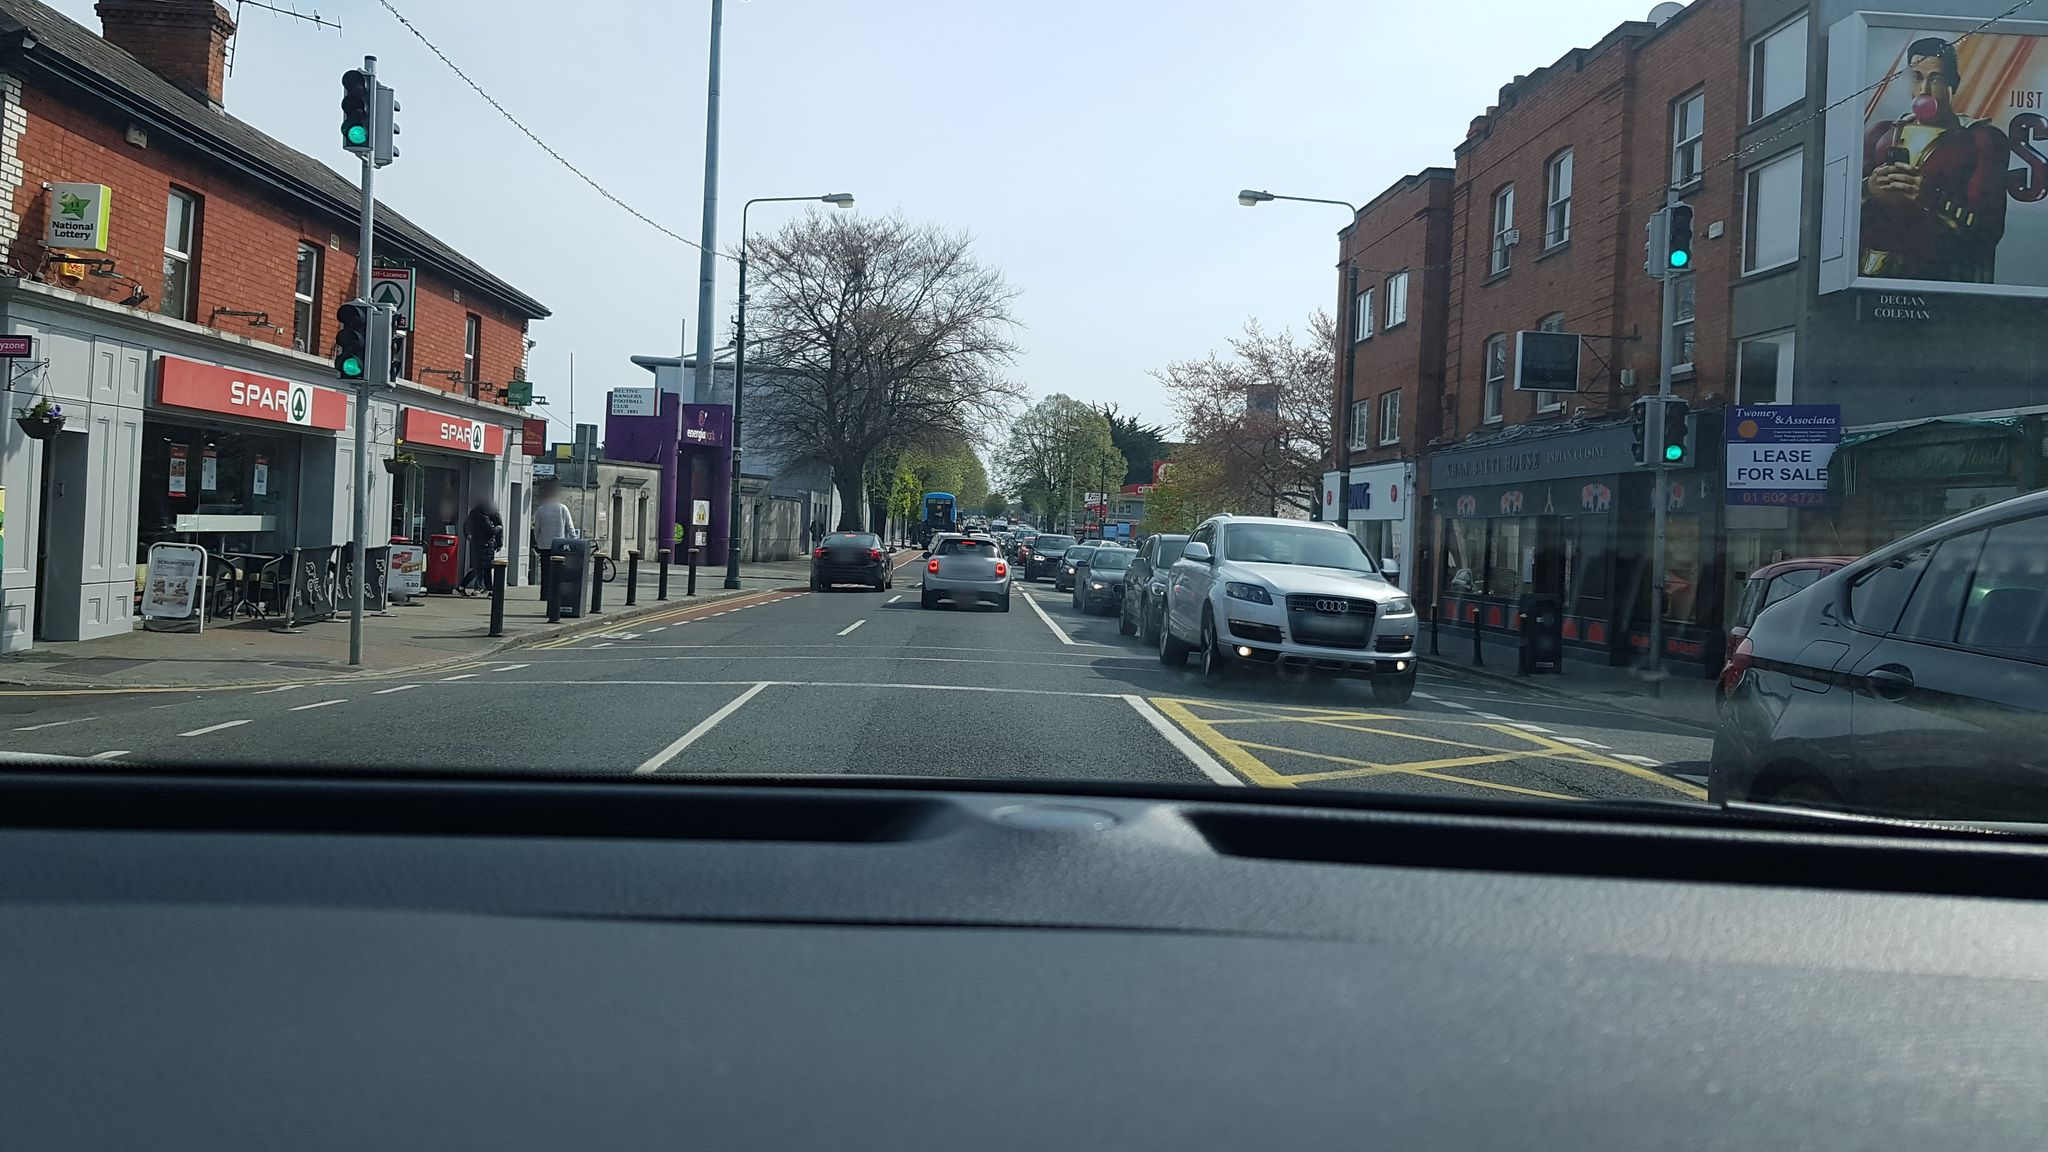property sign: (1703, 390, 1868, 520)
